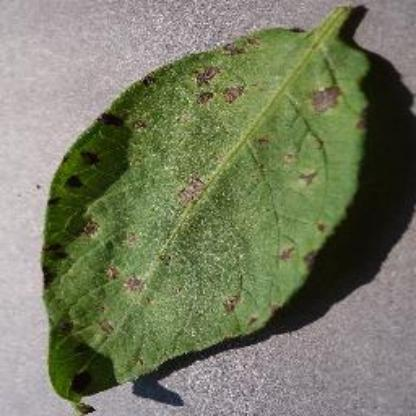Early-Blight: (39, 8, 379, 402)
